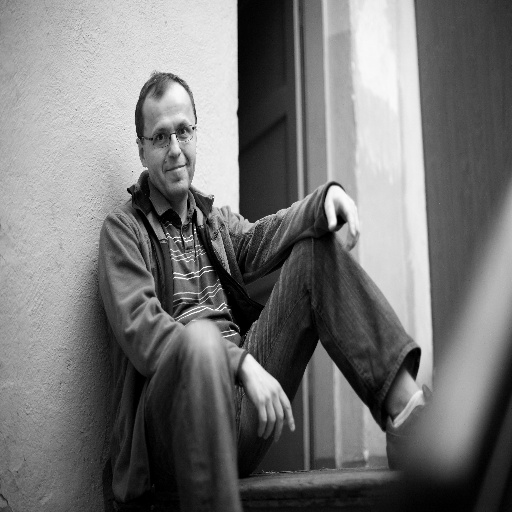hand: (247, 372, 293, 449), (323, 182, 361, 254)
